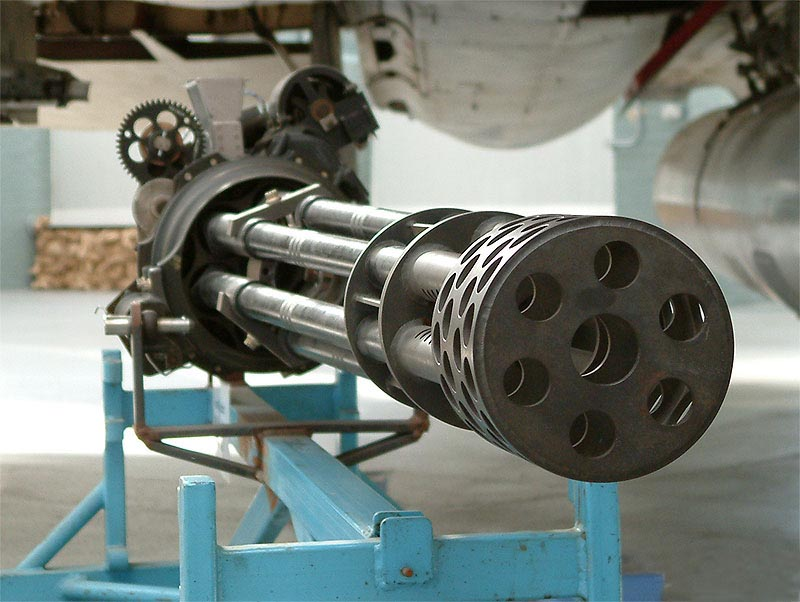rifle: (130, 76, 751, 531)
